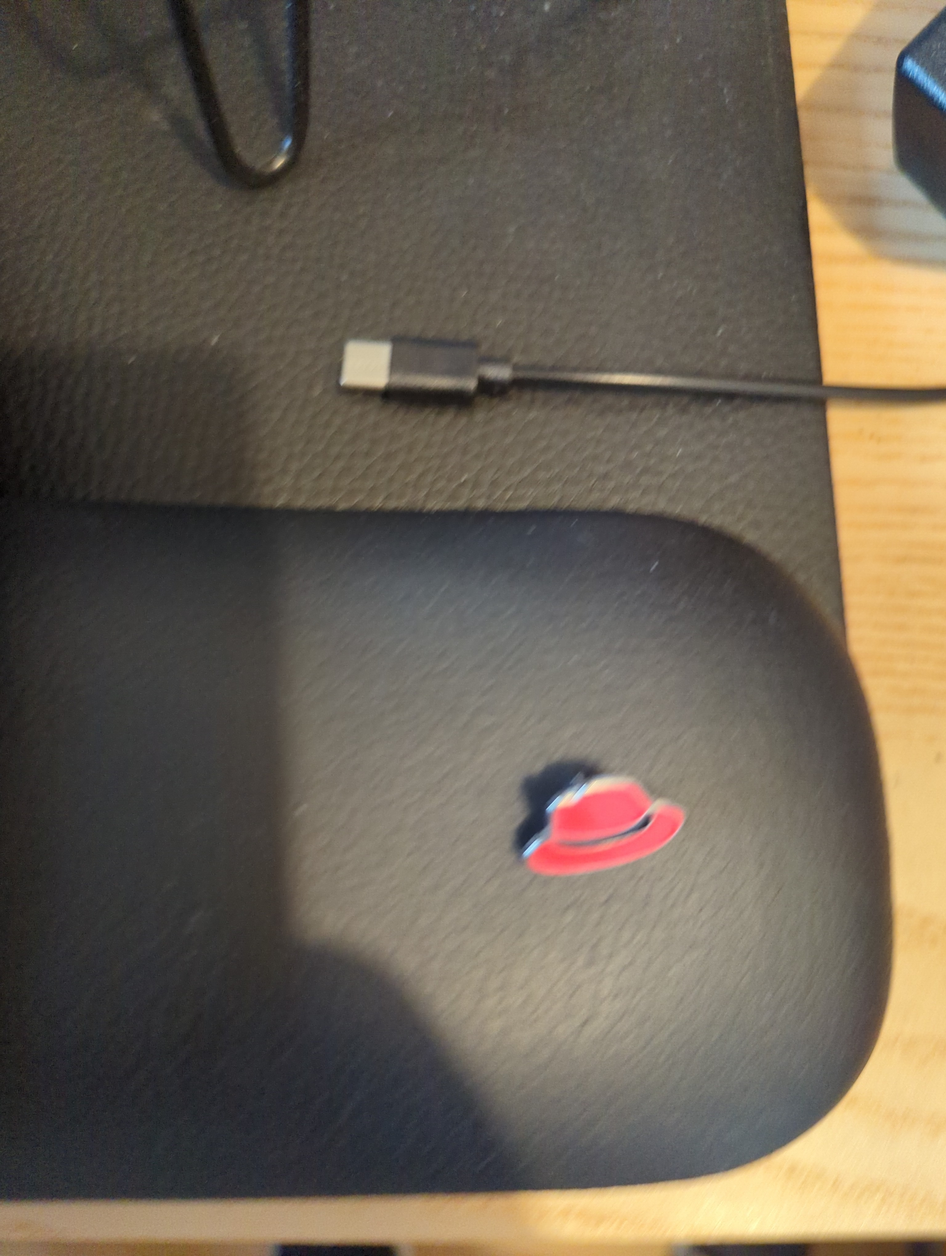Red-Hat: (452, 719, 760, 926)
